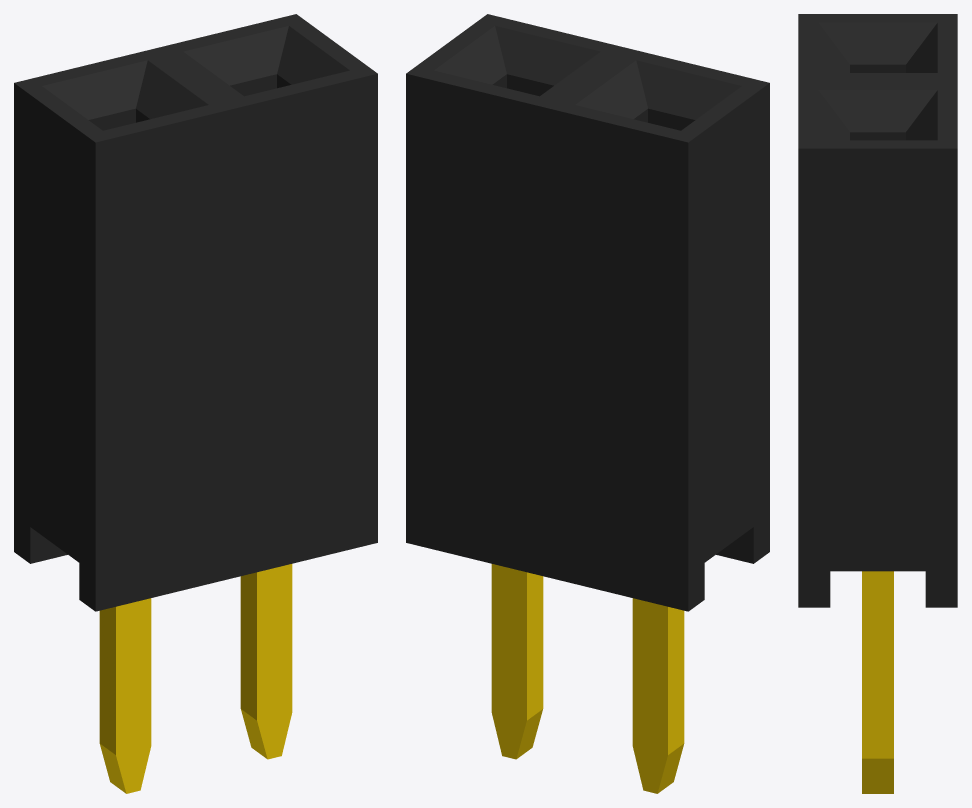
The model's file is PBS2-2.glb.
3 views of the same model, side by side, from view 1: azimuth 30°, elevation 25°; view 2: azimuth 150°, elevation 25°; view 3: azimuth 270°, elevation 25° (orthographic). The views are drawn at different scales.
Parts seen in each view (by area): view 1: PBS2 (DS1026-20 CONNFLY); view 2: PBS2 (DS1026-20 CONNFLY); view 3: PBS2 (DS1026-20 CONNFLY).
Part boxes in pixels (x1,y1,x2,y2): PBS2 (DS1026-20 CONNFLY): (14, 14, 377, 793); PBS2 (DS1026-20 CONNFLY): (406, 14, 769, 793); PBS2 (DS1026-20 CONNFLY): (798, 14, 957, 793).
Bounding box in the file's own units: 0.004 × 0.00935 × 0.002.
